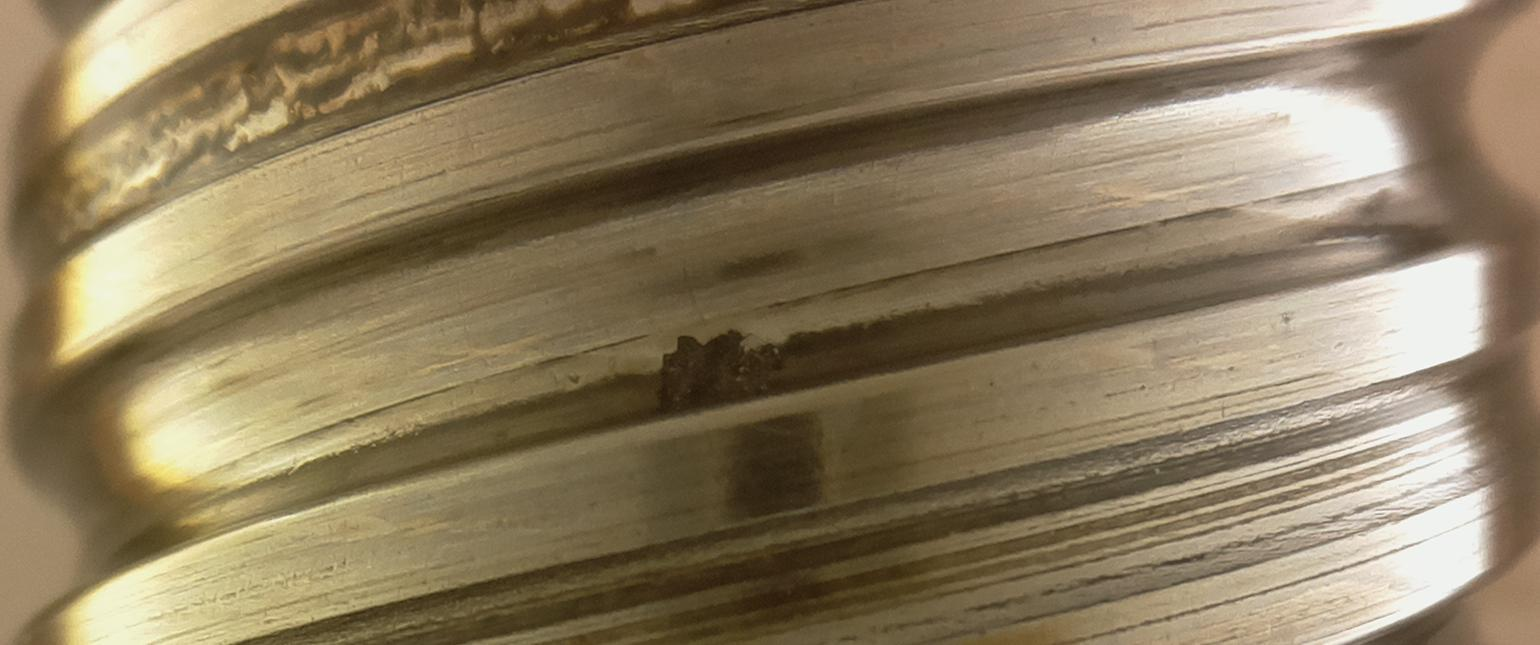pitting: (656, 329, 783, 414)
